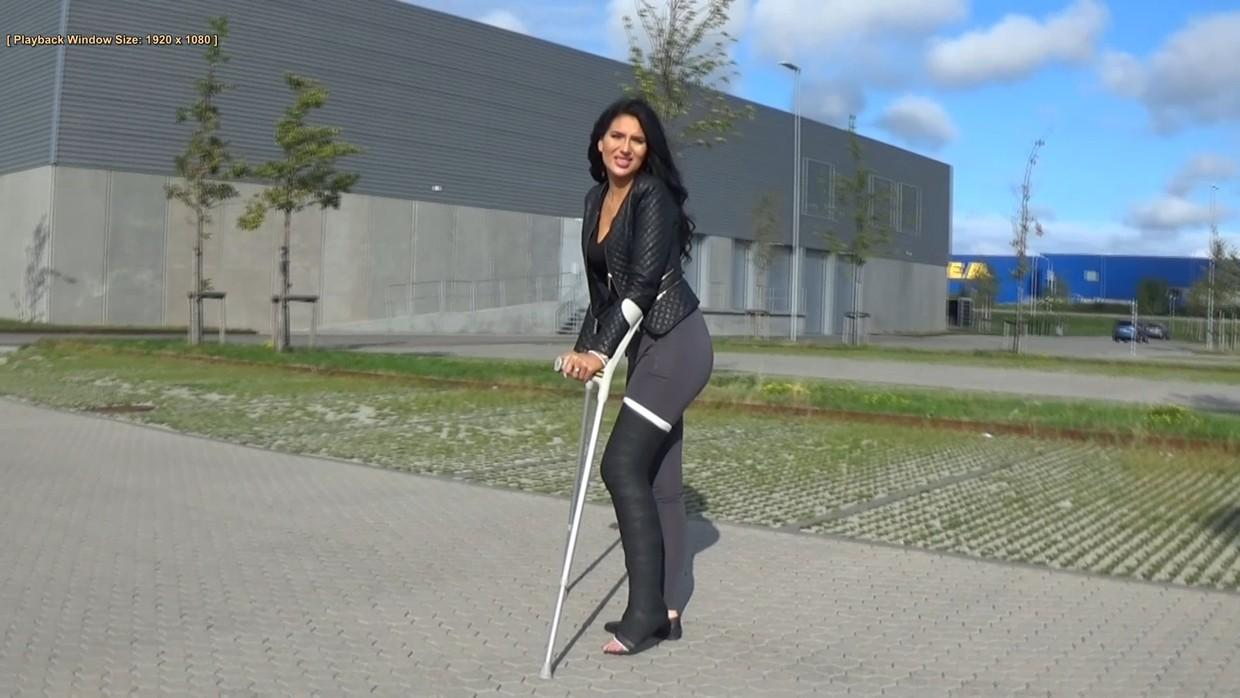crutches: (540, 97, 714, 681)
